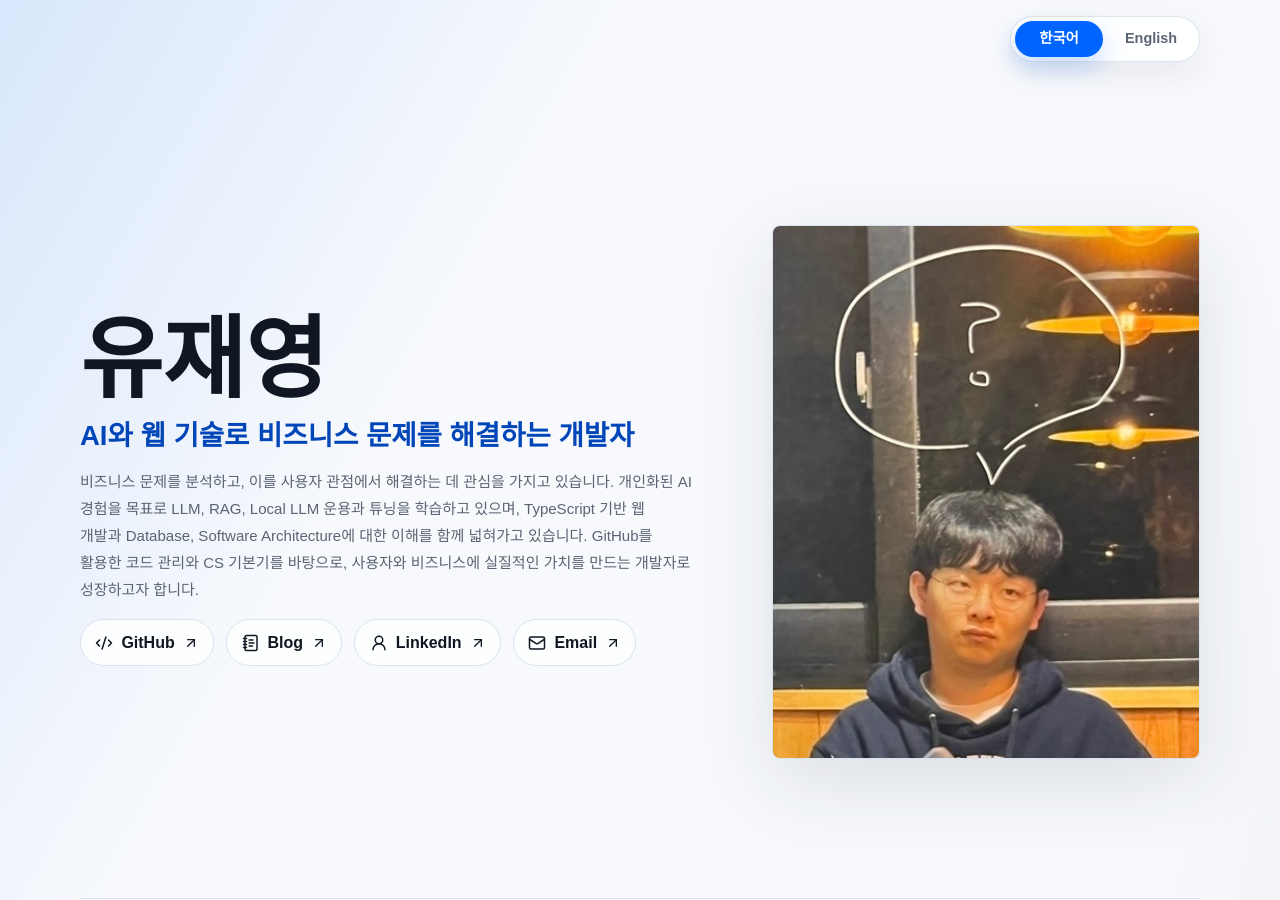
Test case: PortfolioPage › switches to the English profile when requested
Step 1. Click the button "English" → (1151, 39), box [1107,21,1195,57]
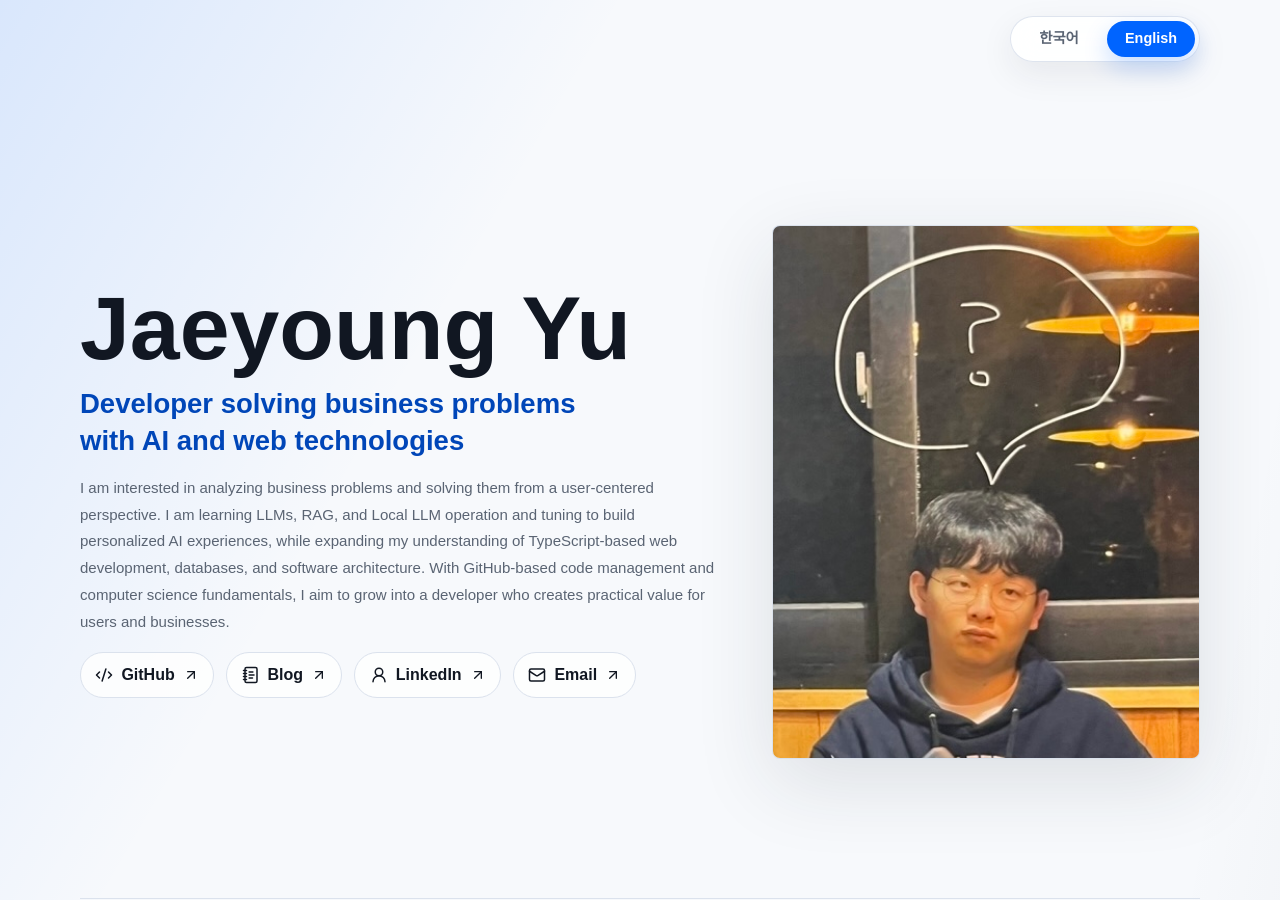
Check: the heading "Jaeyoung Yu" is shown, box [80,286,721,371]
Check: the element labelled "Developer solving business problems with AI and web technologies" is shown, box [80,388,575,456]
Check: the text "I am interested in analyzing business problems" is shown, box [80,479,714,630]
